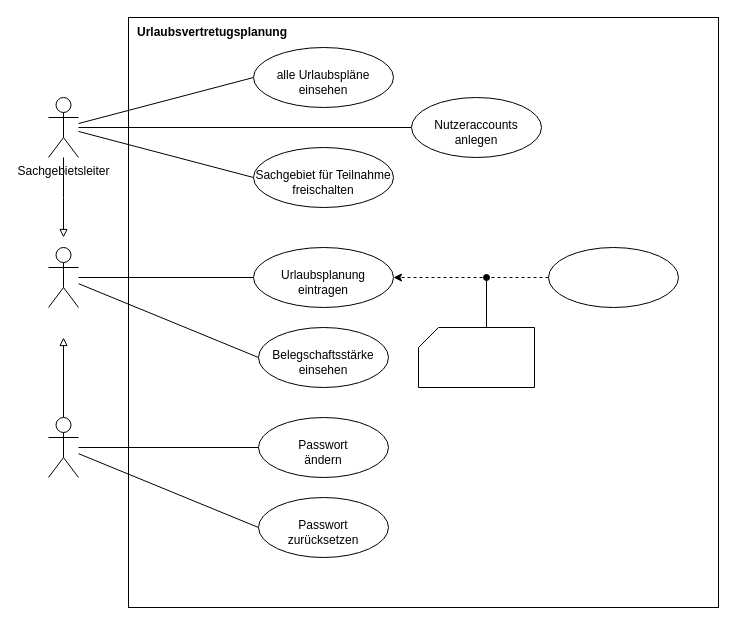
This 736x625 diagram has some shape labels left out. The shapes that lost their labels are listed below. From the top down, each one's centre as x and y in pixels, then its label:
At point 63,277: "Belegschaft".
At point 613,277: "Urlaubsplan für andere sichtbar machen".
At point 476,357: "Extension point freischalten, wenn Sichtbarkeit gewünscht ist".
At point 63,447: "Beschäftigte".
